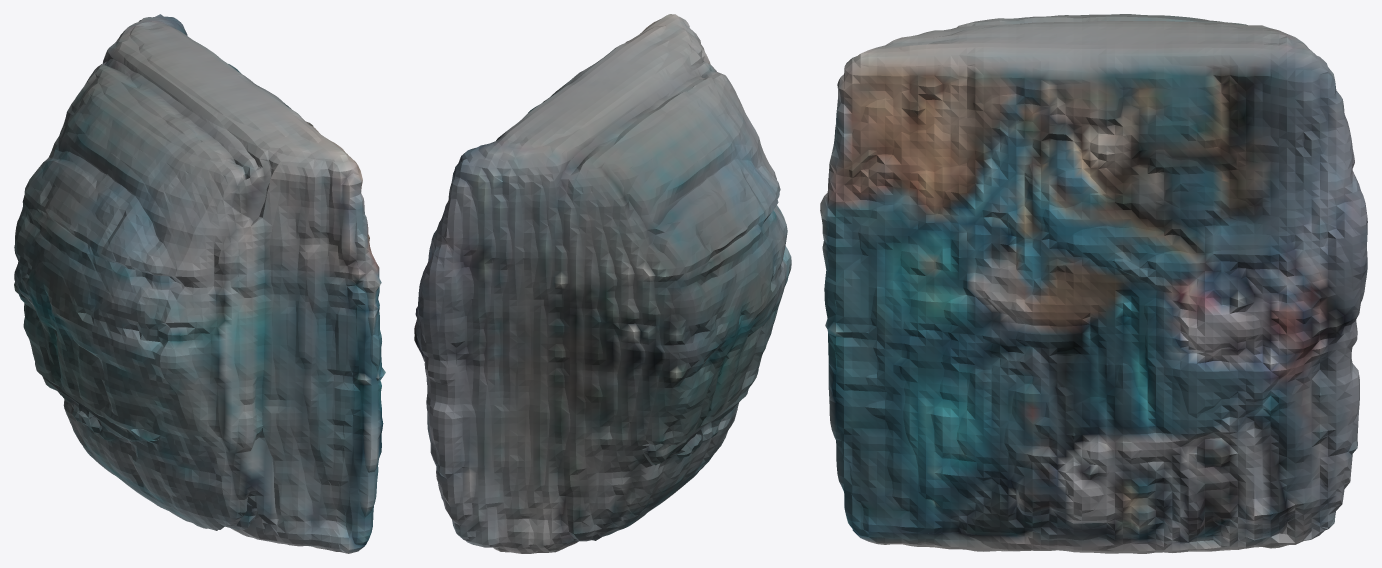
The model's file is leader-fox-scientist.glb.
3 renders of one model, left to right at view 1: azimuth 30°, elevation 25°; view 2: azimuth 150°, elevation 25°; view 3: azimuth 270°, elevation 25°, orthographic. The views are drawn at different scales.
Visible parts, largest first — view 1: world; view 2: world; view 3: world.
Boxes of the visible parts, x1=… form: world: x1=14, y1=14, x2=385, y2=553; world: x1=414, y1=14, x2=791, y2=553; world: x1=820, y1=14, x2=1367, y2=553.
Bounding box in the file's own units: 0.6104 × 0.9133 × 0.9147.
